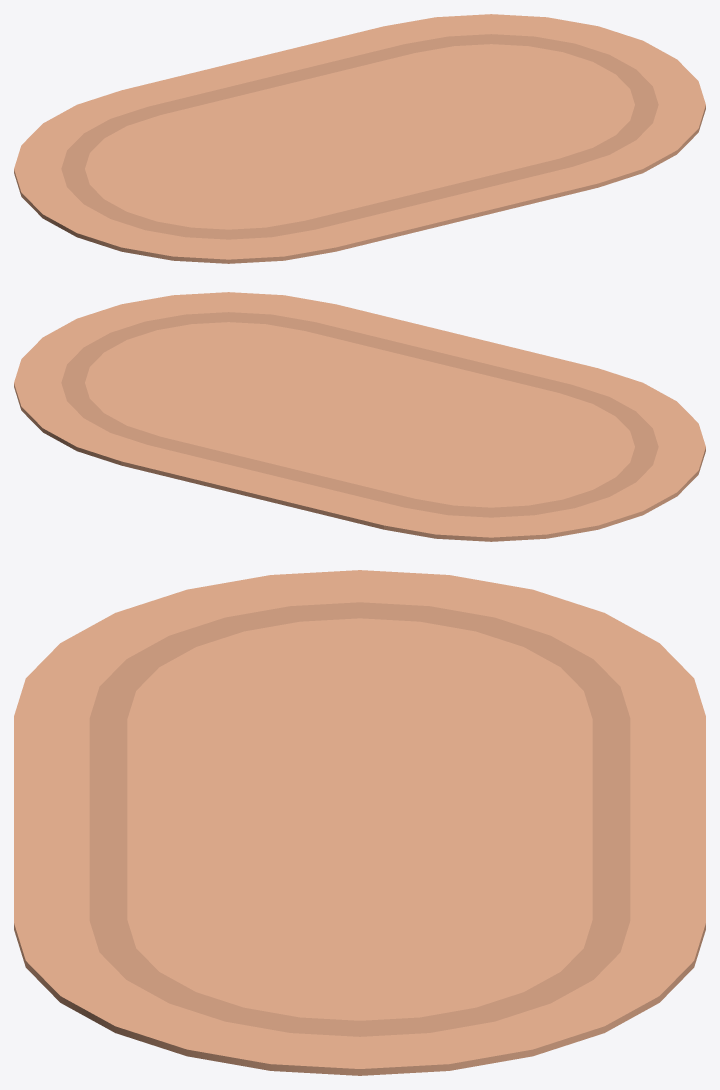
Rendered from rugRounded.glb.
The picture shows the model from 3 angles, top to bottom: view 1: azimuth 30°, elevation 25°; view 2: azimuth 150°, elevation 25°; view 3: azimuth 270°, elevation 25°; orthographic projection. The views are drawn at different scales.
Visible parts, largest first — view 1: rugRounded; view 2: rugRounded; view 3: rugRounded.
Boxes of the visible parts, x1=… form: rugRounded: x1=14, y1=14, x2=705, y2=263; rugRounded: x1=14, y1=292, x2=705, y2=541; rugRounded: x1=14, y1=570, x2=705, y2=1075.
Size of the model in its own units: 15.7 by 0.1 by 9.2.
